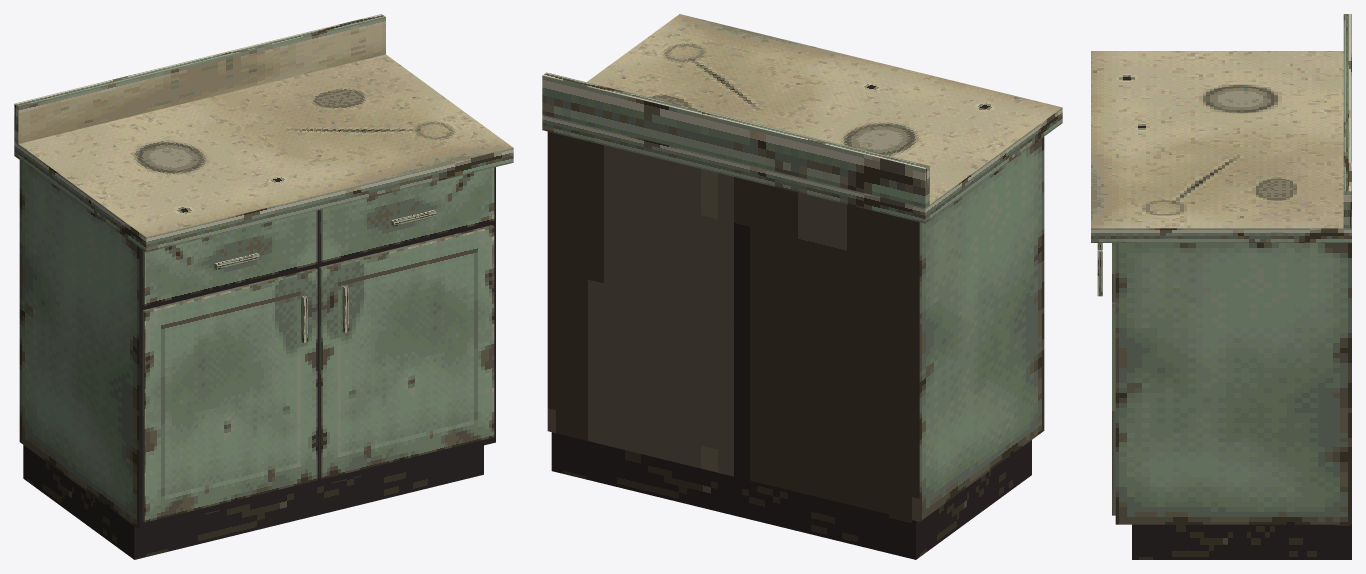
The model's file is kitchen_counter.glb.
3 views of the same model, side by side, from view 1: azimuth 30°, elevation 25°; view 2: azimuth 150°, elevation 25°; view 3: azimuth 270°, elevation 25° (orthographic). The views are drawn at different scales.
Parts seen in each view (by area): view 1: kitchen_counter; view 2: kitchen_counter; view 3: kitchen_counter.
Boxes of the visible parts, <box> form: kitchen_counter: <box>14,14,513,559</box>; kitchen_counter: <box>542,14,1062,559</box>; kitchen_counter: <box>1091,14,1351,559</box>.
Size of the model in its own units: 1.03 by 1.01 by 0.64.
1 material, 1 textured.
